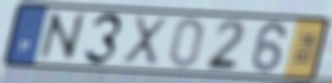0: (167, 16, 206, 70)
2: (205, 19, 249, 72)
3: (80, 11, 126, 67)
6: (250, 20, 289, 75)
N: (36, 10, 87, 63)
X: (119, 14, 171, 69)
